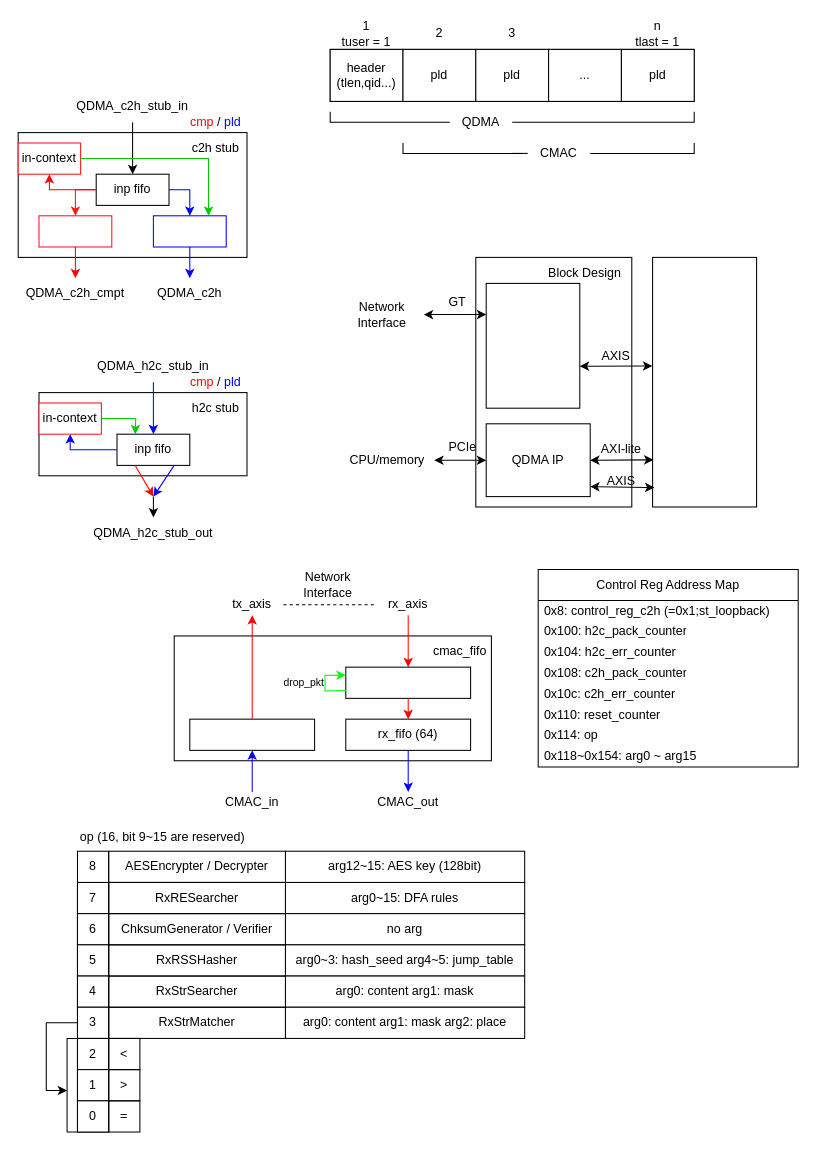
This 816x1151 diagram has some shape labels left out. The shapes that lost their labels are listed below. From the top down, each one's centre as x and y in pixels, then its label:
At point (75, 231): "cmp fifo".
At point (189, 231): "pld fifo".
At point (532, 345): "CMAC IP".
At point (704, 381): "Control Register cmac_fifo QDMA_h2c/c2h _stub PackageHandler".
At point (408, 682): "rx_uram_fifo (2048)".
At point (252, 734): "tx_fifo (64)".
